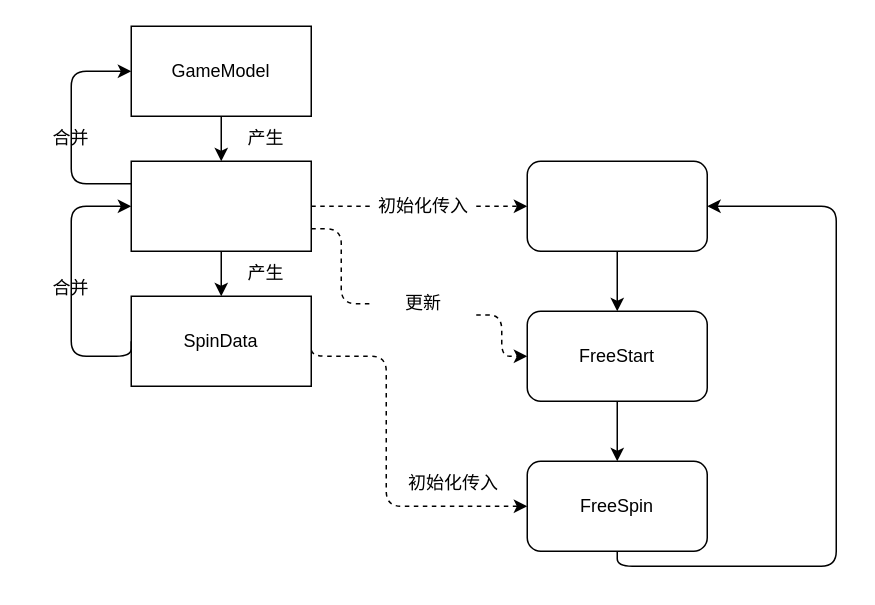
Some shapes in this 875 by 605 pixel diagram are drawn without their labels. Each missing label, with the centre of its shape:
BaseSpin: [616,205]
RoundData: [220,205]
